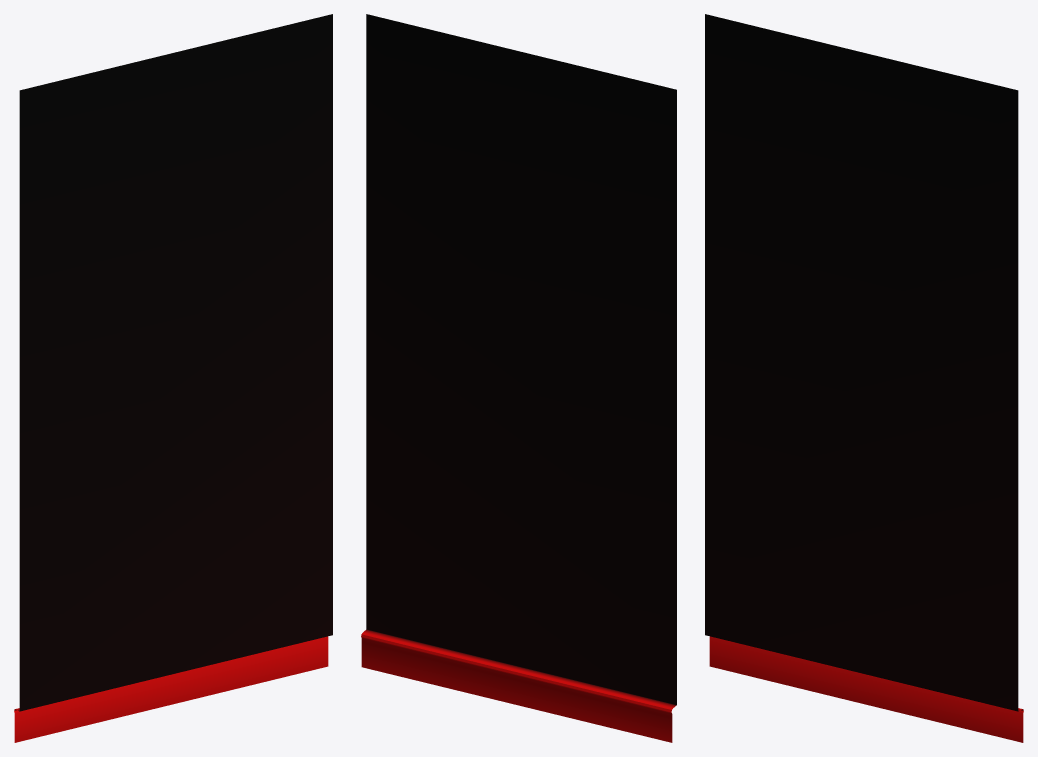
Rendered from HouseWall-Interior.fbx.
3 views of the same model, side by side, from view 1: azimuth 30°, elevation 25°; view 2: azimuth 150°, elevation 25°; view 3: azimuth 330°, elevation 25° (orthographic).
Visible parts, largest first — view 1: HouseWall_Interior; view 2: HouseWall_Interior; view 3: HouseWall_Interior.
Boxes of the visible parts, bbox=[...] form: HouseWall_Interior: bbox=[14, 14, 332, 742]; HouseWall_Interior: bbox=[361, 14, 676, 742]; HouseWall_Interior: bbox=[705, 14, 1023, 742].
Bounding box in the file's own units: 200 × 400 × 5.97.
